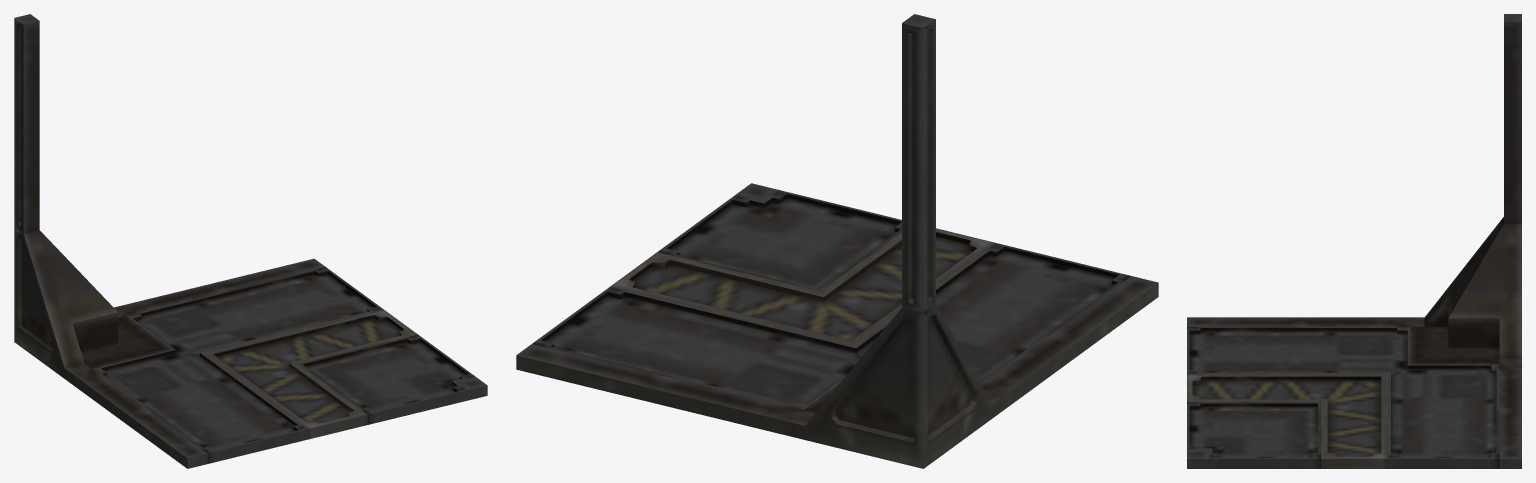
The model's file is Wall-Floor_21_Corner_out_3.FBX.
3 renders of one model, left to right at view 1: azimuth 30°, elevation 25°; view 2: azimuth 150°, elevation 25°; view 3: azimuth 270°, elevation 25°, orthographic. The views are drawn at different scales.
Visible parts, largest first — view 1: Wall-Floor_21; view 2: Wall-Floor_21; view 3: Wall-Floor_21.
Part boxes in pixels (x1=…): Wall-Floor_21: x1=14, y1=14, x2=487, y2=468; Wall-Floor_21: x1=516, y1=14, x2=1158, y2=468; Wall-Floor_21: x1=1187, y1=14, x2=1521, y2=468.
Bounding box in the file's own units: 300 × 310 × 300.
